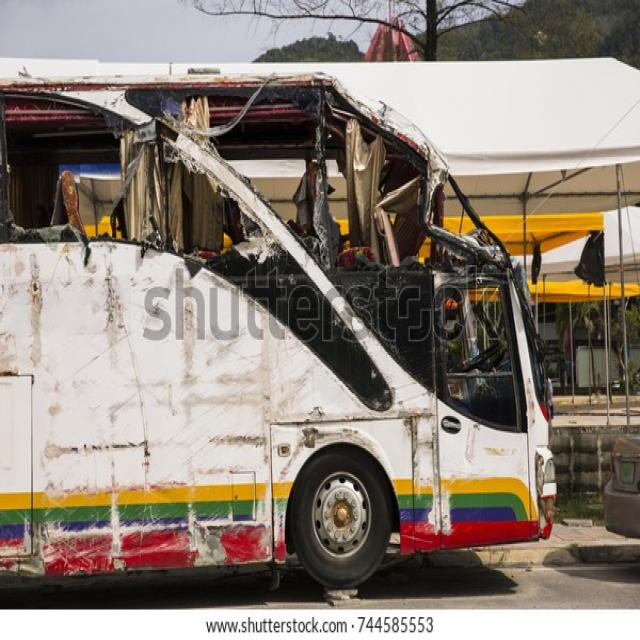Accident: (1, 53, 640, 594)
